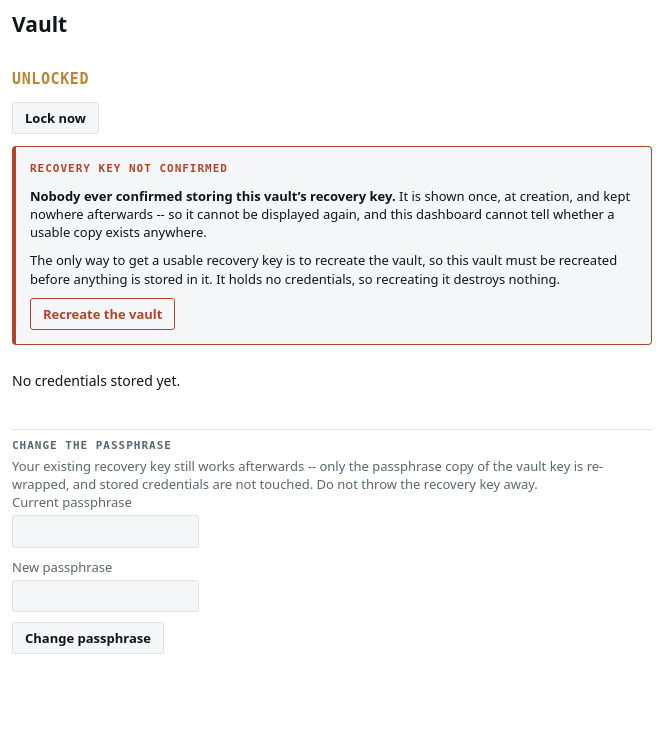
Scenario: VaultPanel › a vault whose recovery key was never confirmed as stored › while the vault is empty, recreation is offered › offers it, and a single click does not recreate anything
The width and height of the screenshot is (669, 733).
Click the button with test id "recreate-vault" at (103, 314), box [30,298,176,330]
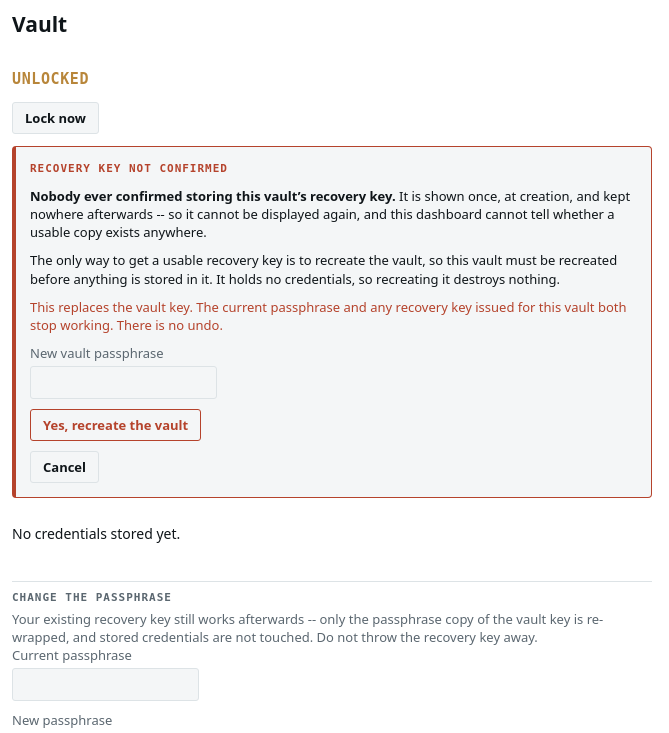
Now the button with test id "confirm-recreate" is shown, box [30,408,201,441]
Now the text "no undo" is shown, box [30,298,626,334]
